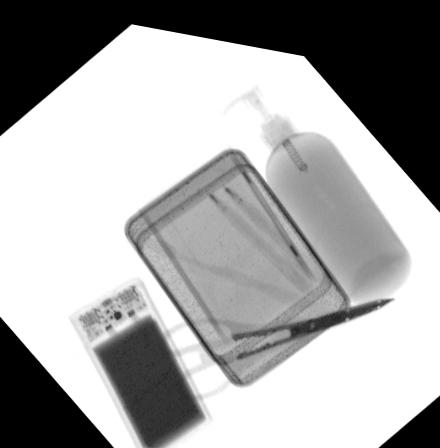Powerbank: (63, 267, 216, 448)
Scissors: (154, 280, 400, 401)
